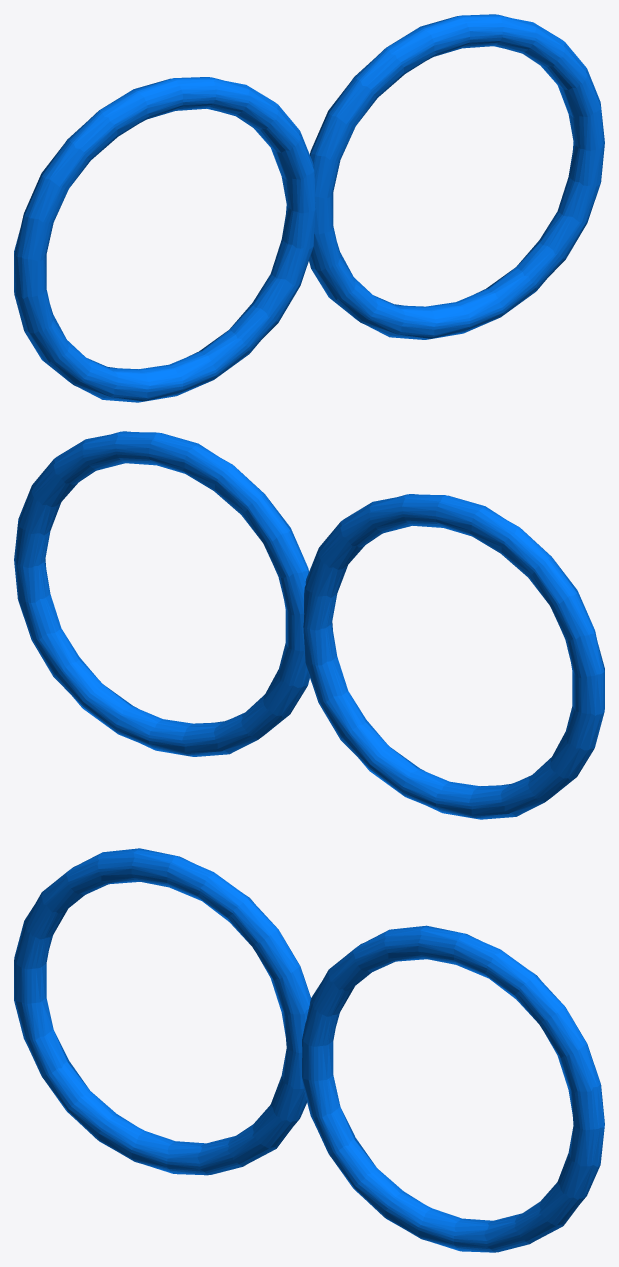
Rendered from figure8.dae.
3 views of the same model, one above another, from view 1: azimuth 30°, elevation 25°; view 2: azimuth 150°, elevation 25°; view 3: azimuth 330°, elevation 25° (orthographic).
Visible parts, largest first — view 1: node; view 2: node; view 3: node.
Part boxes in pixels (bbox=[...]): node: bbox=[14, 14, 604, 402]; node: bbox=[14, 431, 604, 819]; node: bbox=[14, 848, 604, 1252].
Size of the model in its own units: 3.22 by 1.69 by 0.15.
